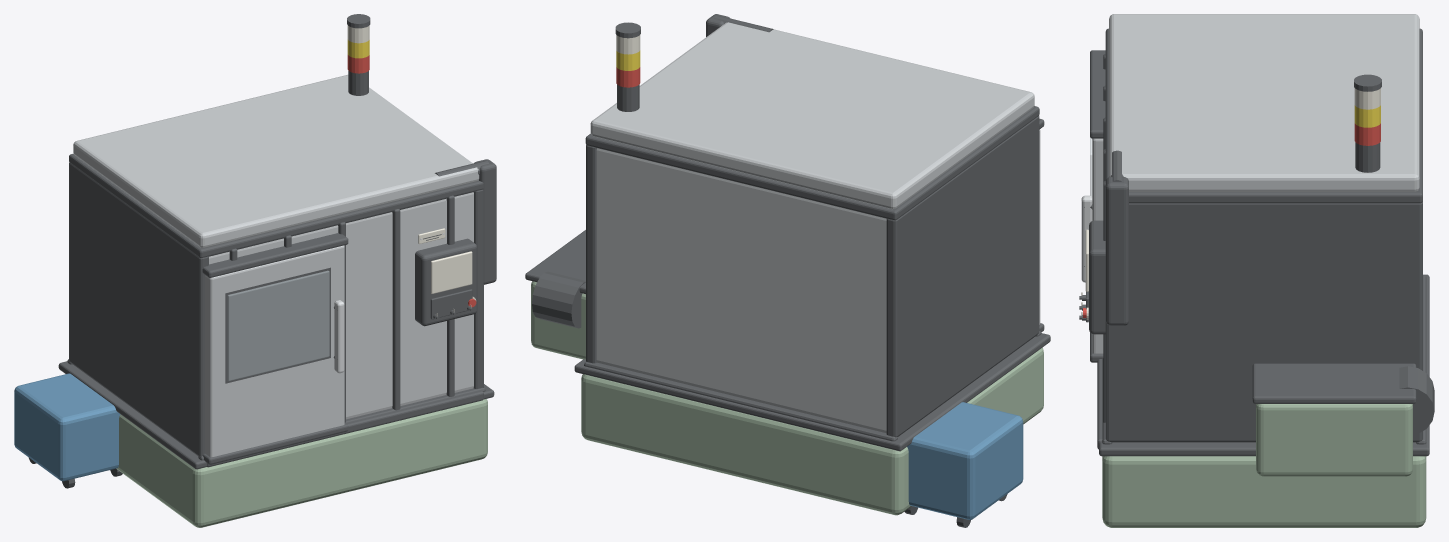
The model's file is FactoryCNC.glb.
3 renders of one model, left to right at view 1: azimuth 30°, elevation 25°; view 2: azimuth 150°, elevation 25°; view 3: azimuth 270°, elevation 25°, orthographic. The views are drawn at different scales.
Parts seen in each view (by area): view 1: machine-shop-and-factory-hall-cnc-machining-centre, cnc-doorcast, cnc-doorcharcoal, cnc-doorglass, cnc-doorsteel; view 2: machine-shop-and-factory-hall-cnc-machining-centre; view 3: machine-shop-and-factory-hall-cnc-machining-centre, cnc-doorcharcoal, cnc-doorcast, cnc-doorsteel.
Part boxes in pixels (x1,y1,x2,y2): machine-shop-and-factory-hall-cnc-machining-centre: (14, 14, 496, 527); cnc-doorcast: (205, 245, 344, 457); cnc-doorcharcoal: (202, 233, 348, 464); cnc-doorglass: (227, 270, 329, 380); cnc-doorsteel: (334, 300, 344, 373); machine-shop-and-factory-hall-cnc-machining-centre: (525, 14, 1050, 527); machine-shop-and-factory-hall-cnc-machining-centre: (1079, 14, 1434, 527); cnc-doorcharcoal: (1084, 50, 1105, 362); cnc-doorcast: (1092, 138, 1103, 353); cnc-doorsteel: (1081, 195, 1092, 282).
Bounding box in the file's own units: 2.82 × 2.48 × 1.79.
